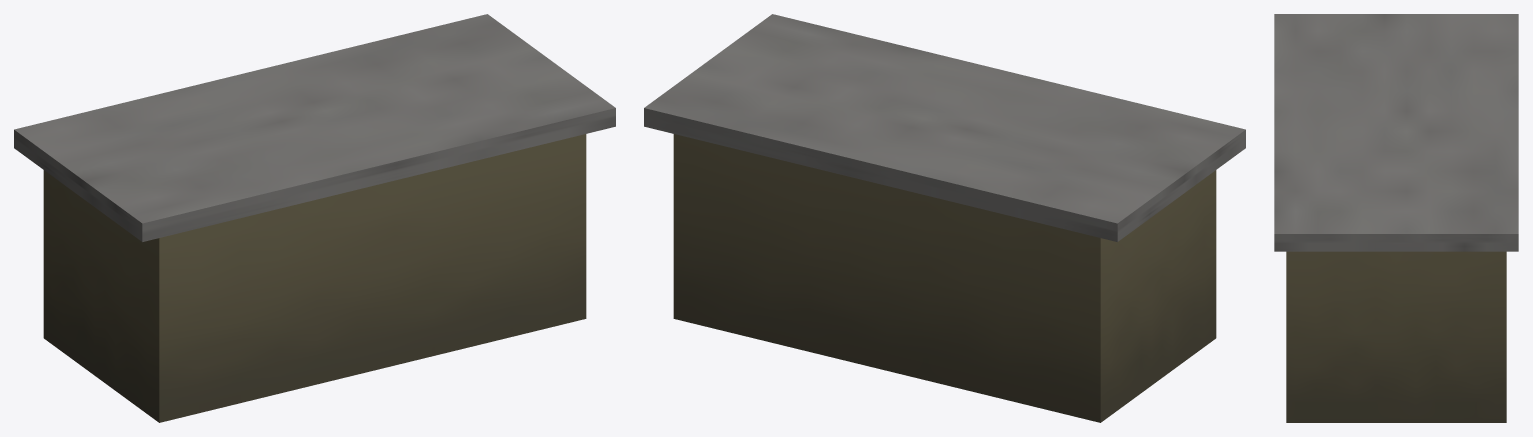
Rendered from CounterIsland.glb.
3 views of the same model, side by side, from view 1: azimuth 30°, elevation 25°; view 2: azimuth 150°, elevation 25°; view 3: azimuth 270°, elevation 25° (orthographic). The views are drawn at different scales.
Visible parts, largest first — view 1: CounterIbottom_Baked, CounterItop_Baked; view 2: CounterIbottom_Baked, CounterItop_Baked; view 3: CounterItop_Baked, CounterIbottom_Baked.
Part boxes in pixels (x1,y1,x2,y2): CounterIbottom_Baked: [43, 134, 586, 422]; CounterItop_Baked: [14, 14, 615, 241]; CounterIbottom_Baked: [673, 134, 1216, 422]; CounterItop_Baked: [644, 14, 1245, 241]; CounterItop_Baked: [1274, 14, 1518, 251]; CounterIbottom_Baked: [1286, 251, 1506, 422].
Size of the model in its own units: 8.66 by 3.67 by 4.07.
2 materials, 2 textured.
